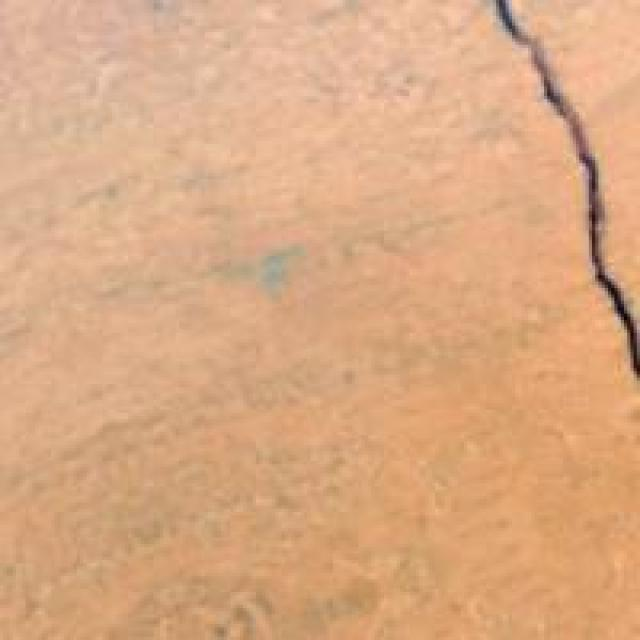Crack: (458, 0, 637, 378)
